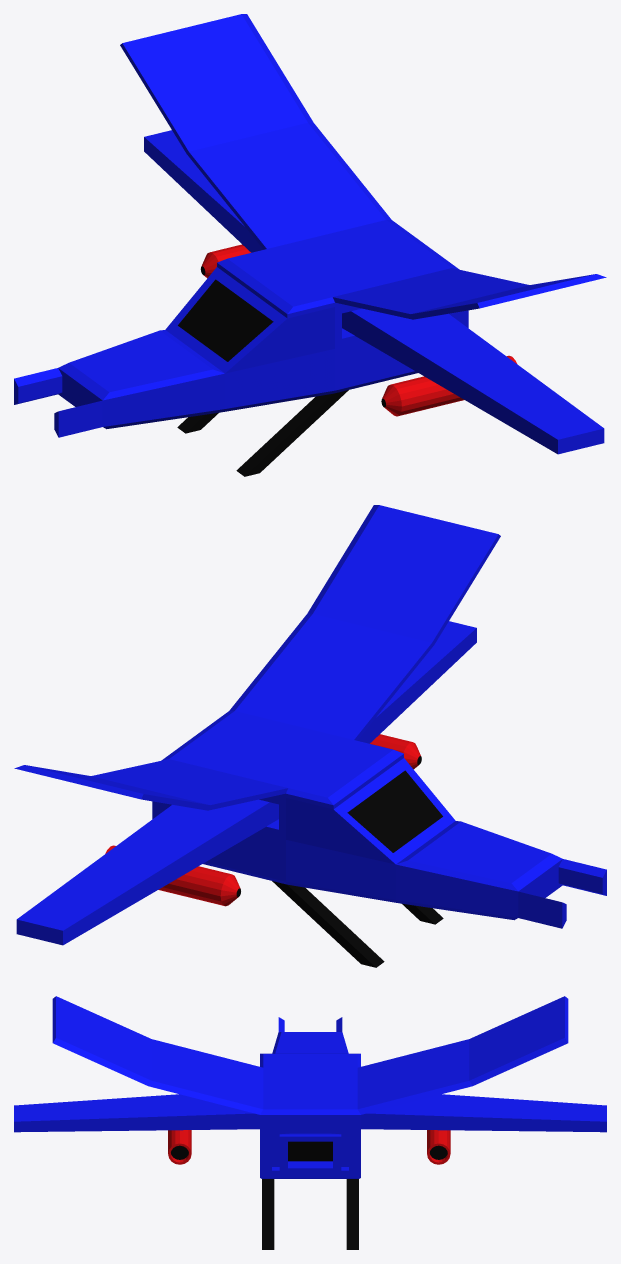
Rendered from uzay gemisi 2.fbx.
3 renders of one model, top to bottom at view 1: azimuth 30°, elevation 25°; view 2: azimuth 150°, elevation 25°; view 3: azimuth 270°, elevation 25°, orthographic. The views are drawn at different scales.
Visible parts, largest first — view 1: Cube; view 2: Cube; view 3: Cube.
Part boxes in pixels (x1,y1,x2,y2): Cube: (14,14,606,476); Cube: (14,505,606,967); Cube: (14,996,606,1249).
Bounding box in the file's own units: 1154 × 615 × 1791.
